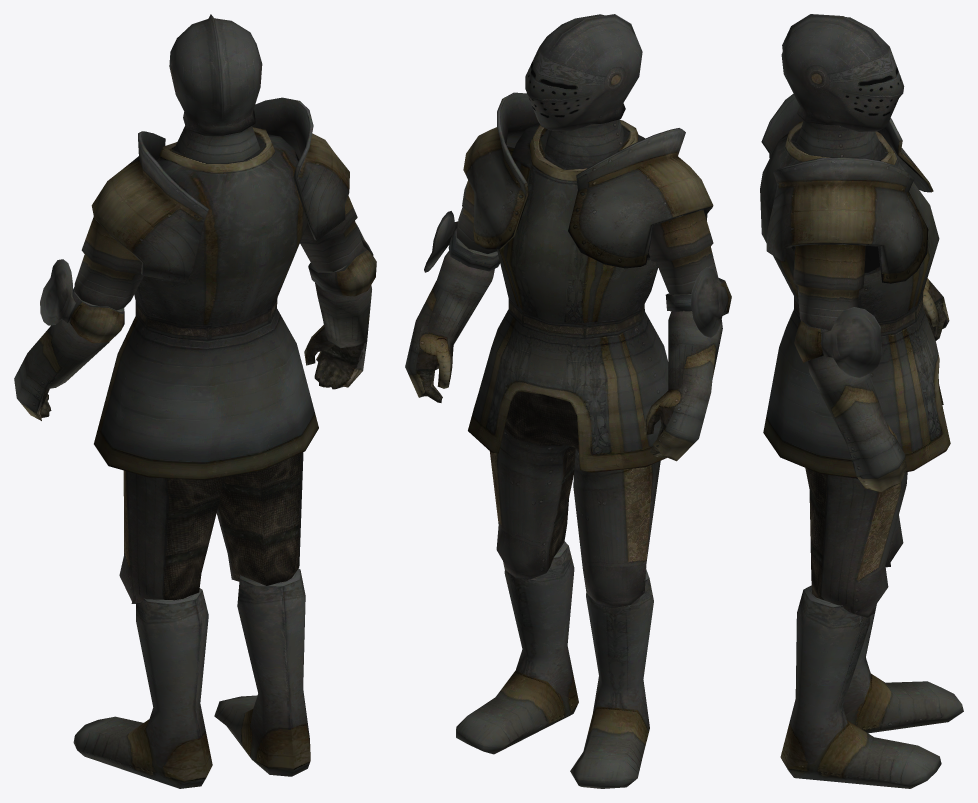
File: wolf_knight.dae
The picture shows the model from 3 angles, left to right: view 1: azimuth 30°, elevation 25°; view 2: azimuth 150°, elevation 25°; view 3: azimuth 270°, elevation 25°; orthographic projection. The views are drawn at different scales.
Parts seen in each view (by area): view 1: knight; view 2: knight; view 3: knight.
Part boxes in pixels (x1,y1,x2,y2): knight: (14,14,376,788); knight: (405,14,731,788); knight: (760,14,963,788).
Bounding box in the file's own units: 33.2 × 18.6 × 73.47.
1 material, 1 textured.
